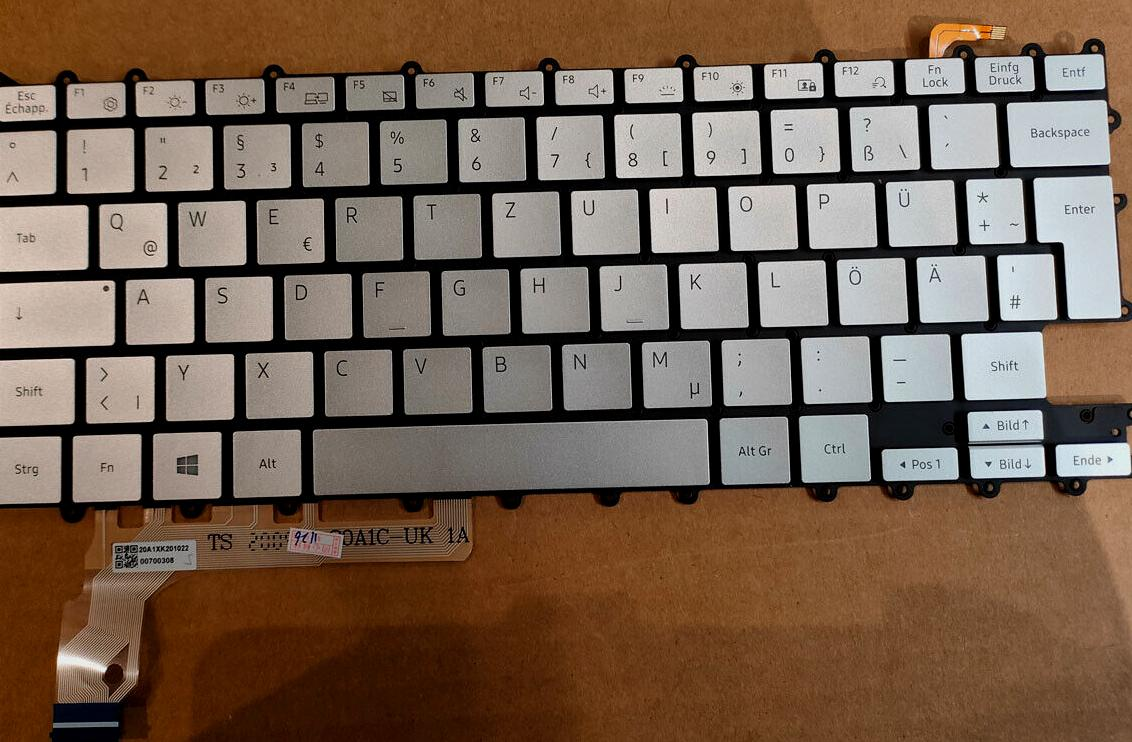0: (764, 103, 839, 174)
1: (61, 123, 134, 193)
2: (138, 121, 213, 191)
3: (216, 118, 291, 188)
4: (296, 117, 369, 186)
5: (373, 115, 447, 184)
6: (452, 113, 526, 182)
7: (531, 111, 604, 180)
8: (608, 110, 681, 178)
9: (686, 106, 760, 176)
a: (119, 273, 194, 344)
accent: (923, 97, 996, 168)
ae: (911, 251, 988, 322)
alt-left: (227, 425, 302, 497)
altgr-right: (714, 412, 790, 484)
b: (476, 340, 552, 412)
c: (318, 345, 394, 416)
caret: (1, 126, 55, 195)
comma: (714, 333, 791, 405)
d: (278, 269, 352, 339)
del: (1002, 95, 1110, 167)
e: (250, 194, 326, 264)
enter: (1029, 170, 1122, 319)
f: (356, 267, 430, 337)
g: (435, 263, 509, 334)
h: (514, 262, 589, 332)
hash: (991, 248, 1056, 320)
i: (644, 183, 718, 252)
j: (593, 259, 668, 330)
k: (673, 257, 748, 328)
keyboard: (1, 44, 1132, 525)
l: (752, 256, 827, 327)
less: (80, 351, 156, 423)
m: (635, 335, 711, 408)
minus: (874, 330, 952, 400)
n: (556, 338, 631, 410)
o: (721, 180, 797, 250)
oe: (831, 252, 908, 324)
p: (800, 177, 876, 248)
plus: (961, 173, 1024, 243)
point: (795, 331, 872, 402)
q: (92, 198, 169, 269)
r: (329, 191, 403, 261)
s: (198, 272, 273, 341)
shift-left: (1, 354, 75, 426)
shift-lock: (1, 275, 116, 347)
shift-right: (956, 328, 1046, 400)
space: (303, 417, 712, 493)
ss: (842, 100, 919, 171)
strg-left: (1, 432, 62, 504)
strg-right: (794, 410, 871, 482)
t: (408, 189, 481, 258)
tab: (1, 200, 88, 271)
u: (565, 183, 638, 255)
ue: (880, 174, 957, 246)
v: (397, 342, 473, 414)
w: (172, 195, 246, 266)
x: (239, 346, 314, 418)
y: (160, 349, 235, 420)
z: (486, 186, 561, 257)
